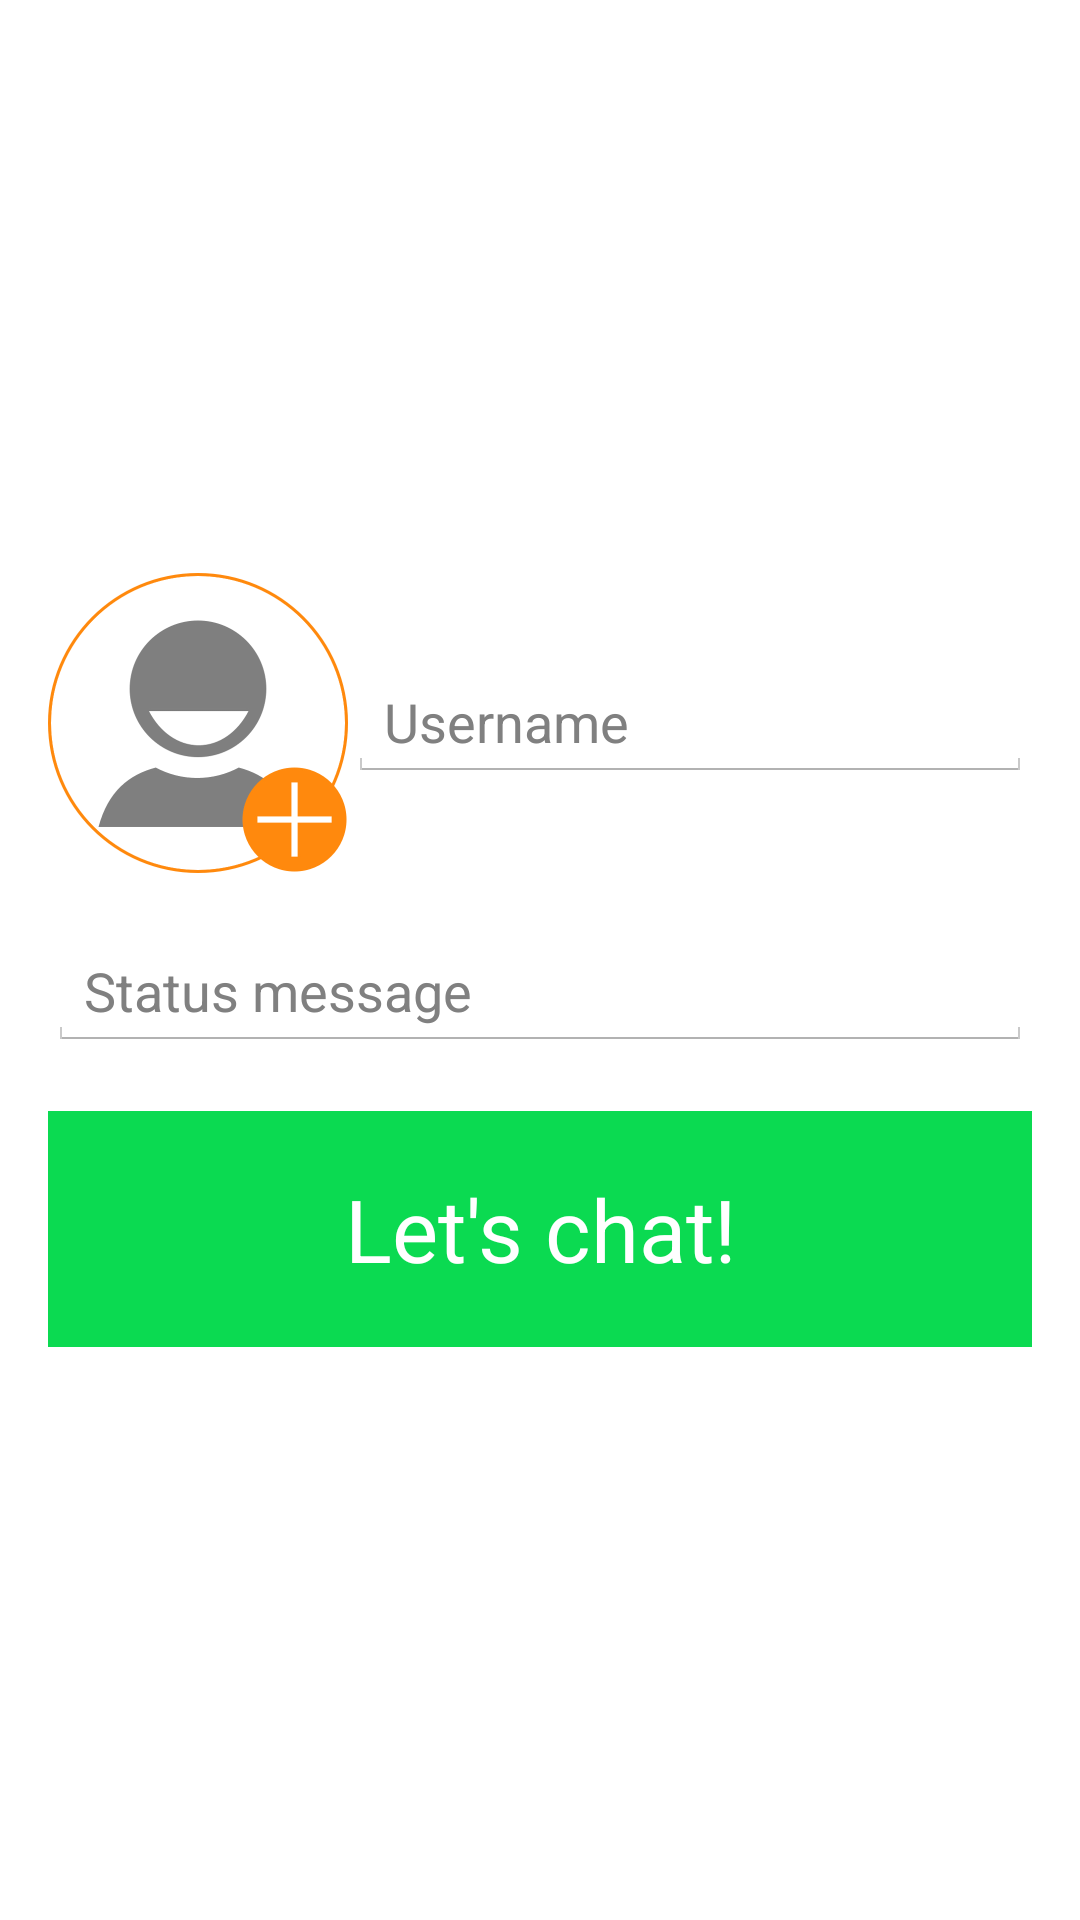

Icon click points for this 1080px x 1920px phone screenshot, format (x=x, y=y):
Add a profile picture: (x=198, y=723)
